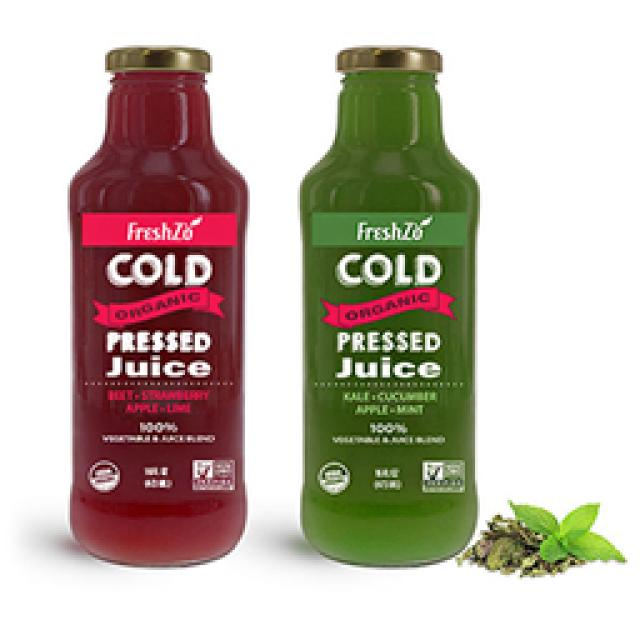glass_beverage_bottles: (300, 43, 478, 565), (70, 50, 243, 573)
